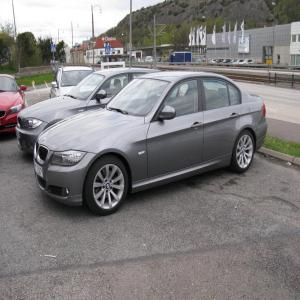Vehicle-registration-plate: (34, 162, 45, 180), (16, 128, 21, 139)
